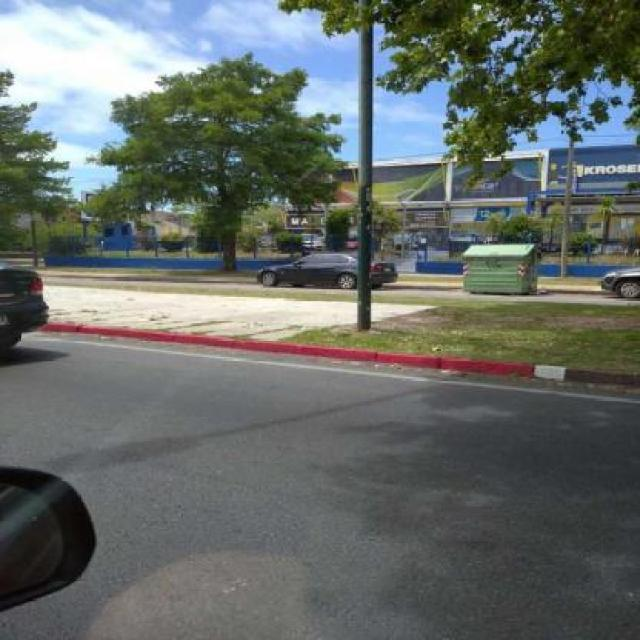garbage: (525, 277, 558, 297)
